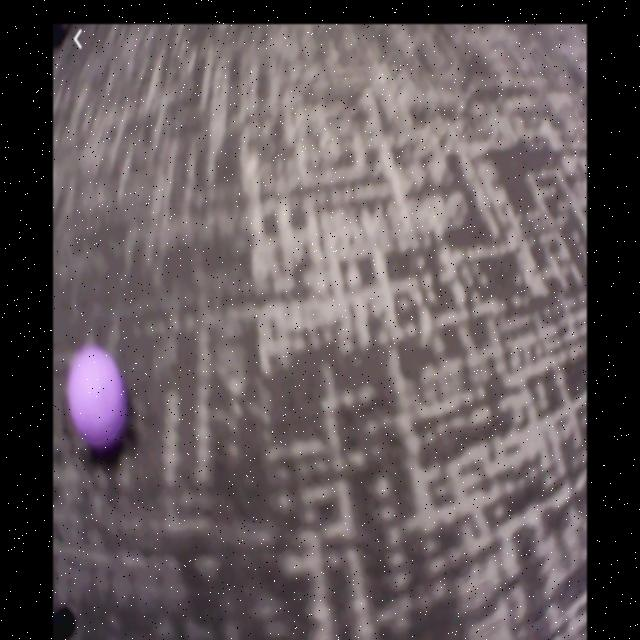ball: (70, 348, 126, 447)
